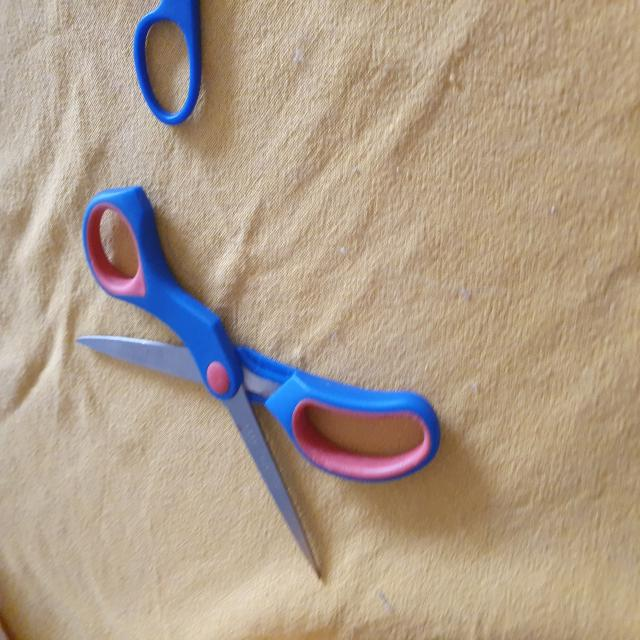scissors: (80, 182, 444, 583), (135, 0, 208, 132)
